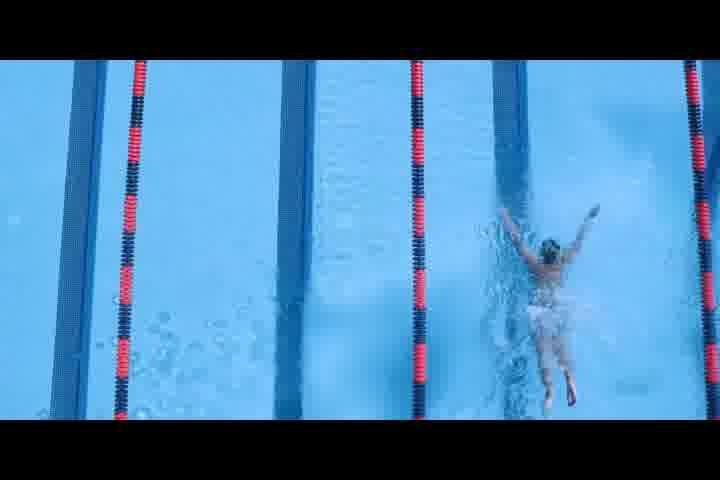human: (491, 210, 589, 407)
